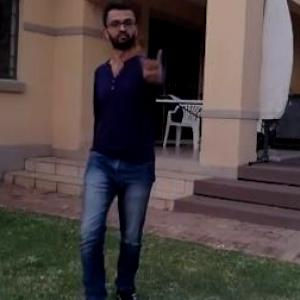takeoff-hand: (132, 41, 169, 94)
